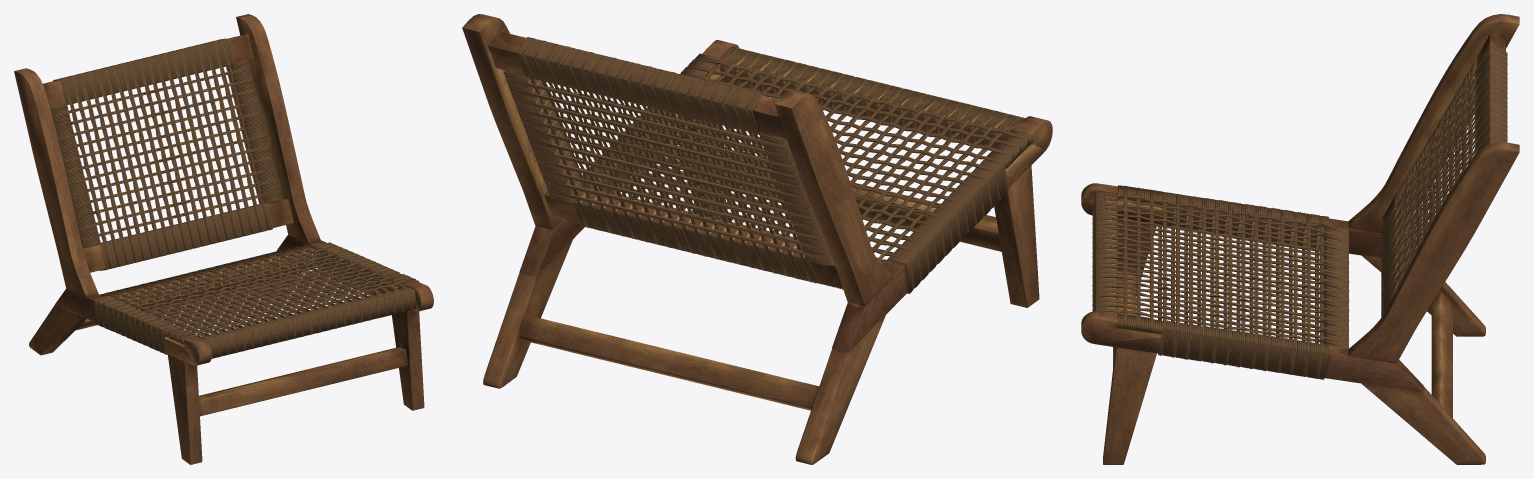
File: heracles.glb
The picture shows the model from 3 angles, left to right: view 1: azimuth 30°, elevation 25°; view 2: azimuth 150°, elevation 25°; view 3: azimuth 270°, elevation 25°; orthographic projection. The views are drawn at different scales.
Visible parts, largest first — view 1: rope, wood; view 2: rope, wood; view 3: rope, wood.
Boxes of the visible parts, left/top/right/bottom form: rope: left=50, top=38, right=419, bottom=358; wood: left=14, top=14, right=433, bottom=464; rope: left=503, top=37, right=1032, bottom=293; wood: left=462, top=14, right=1052, bottom=464; rope: left=1092, top=45, right=1507, bottom=379; wood: left=1081, top=14, right=1519, bottom=464.
Bounding box in the file's own units: 0.6498 × 0.7 × 0.88.
Materials: 2 (2 with a texture image).
